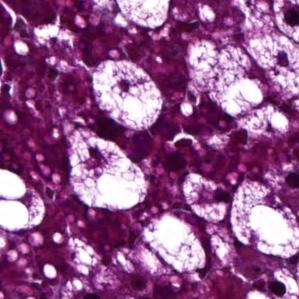ballooning: (64, 128, 151, 213), (228, 180, 299, 261), (90, 58, 165, 132), (182, 170, 232, 227)
